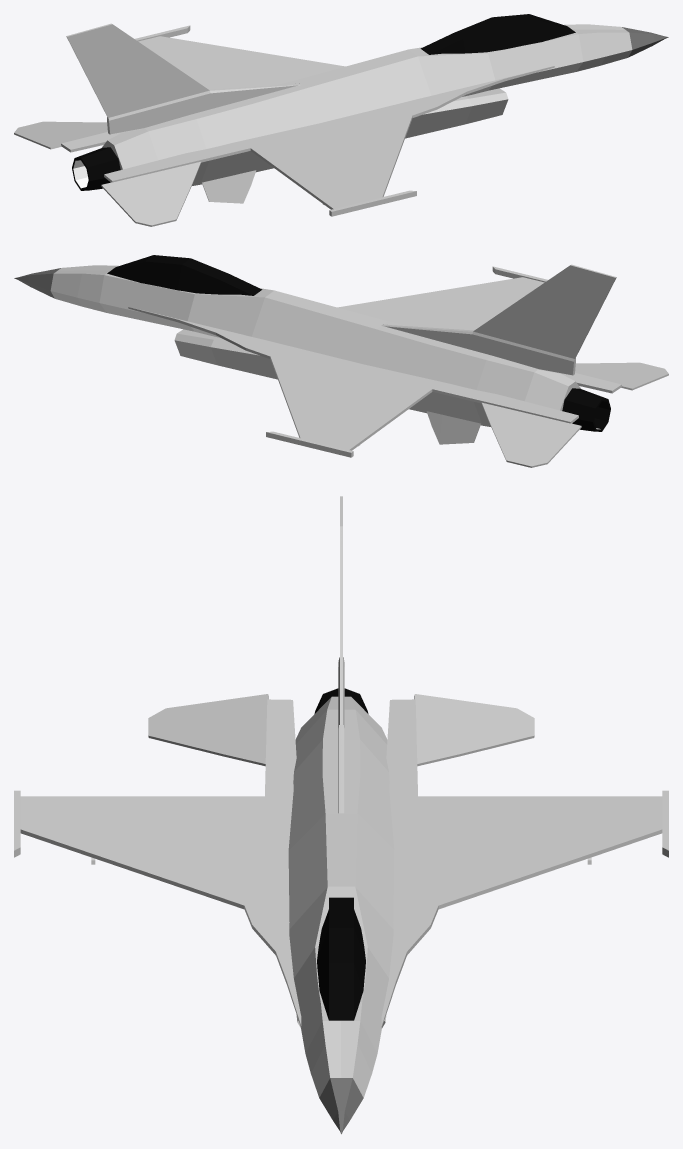
3 renders of one model, top to bottom at view 1: azimuth 30°, elevation 25°; view 2: azimuth 150°, elevation 25°; view 3: azimuth 270°, elevation 25°, orthographic. The views are drawn at different scales.
Visible parts, largest first — view 1: Cylinder.002; view 2: Cylinder.002; view 3: Cylinder.002.
Boxes of the visible parts, bbox=[...] form: Cylinder.002: bbox=[14, 14, 668, 226]; Cylinder.002: bbox=[14, 255, 668, 467]; Cylinder.002: bbox=[14, 496, 668, 1134].
Bounding box in the file's own units: 15.11 × 4.74 × 9.84.
1 material, 1 textured.
